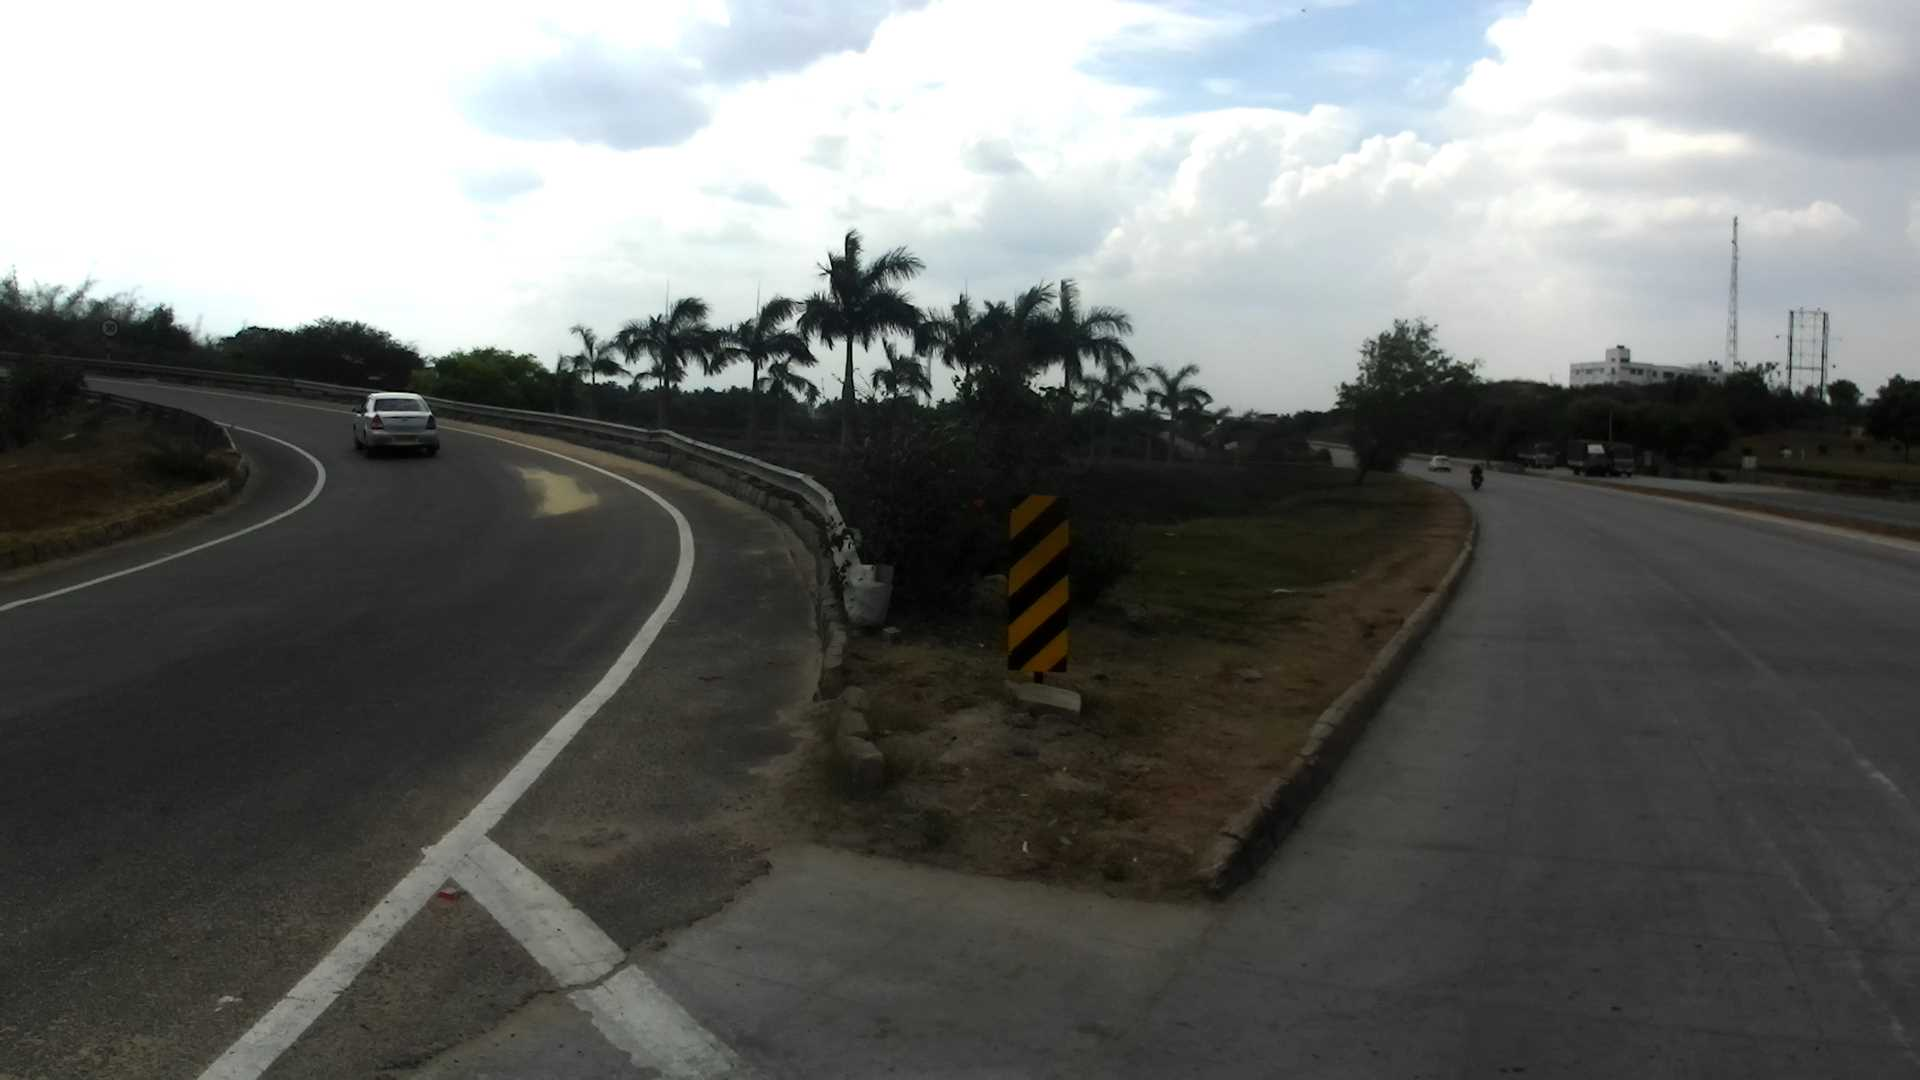bike: (1458, 455, 1511, 506)
car: (332, 365, 464, 473), (1428, 435, 1462, 489)
